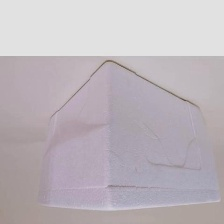foam_box: (36, 57, 223, 214)
